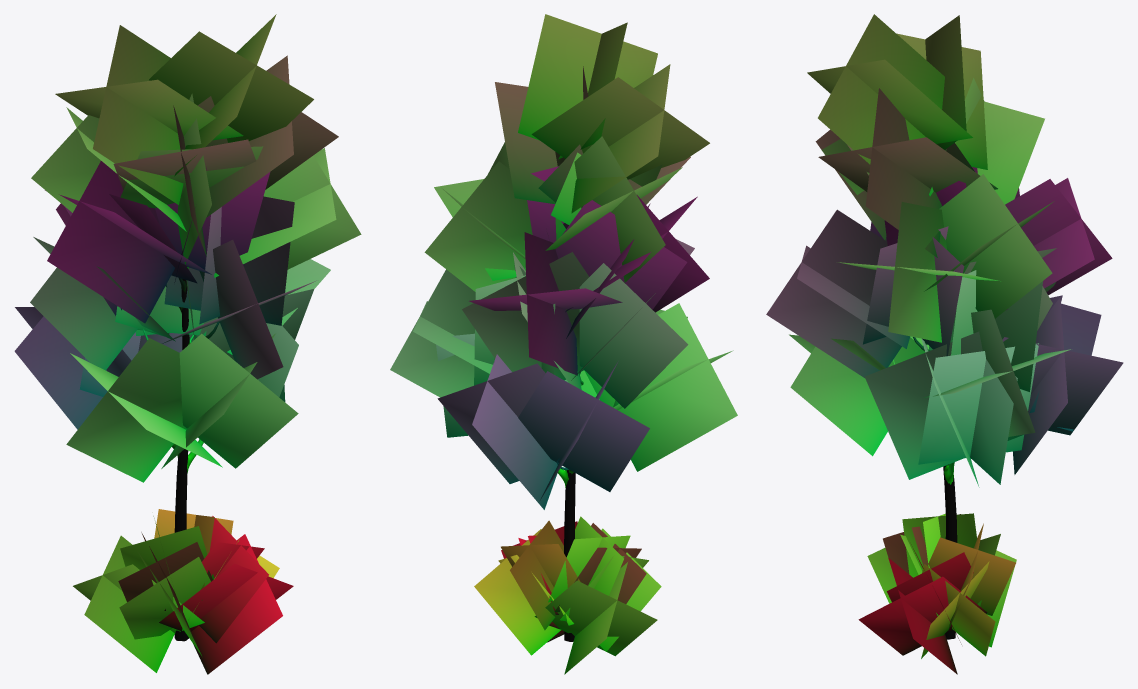
Rendered from M_P12_Tree_2.fbx.
3 renders of one model, left to right at view 1: azimuth 30°, elevation 25°; view 2: azimuth 150°, elevation 25°; view 3: azimuth 270°, elevation 25°, orthographic. The views are drawn at different scales.
Parts seen in each view (by area): view 1: Tree_2; view 2: Tree_2; view 3: Tree_2.
Boxes of the visible parts, <box> form: Tree_2: <box>14,14,361,674</box>; Tree_2: <box>390,14,737,674</box>; Tree_2: <box>766,14,1123,674</box>.
Size of the model in its own units: 170 by 359 by 184.
